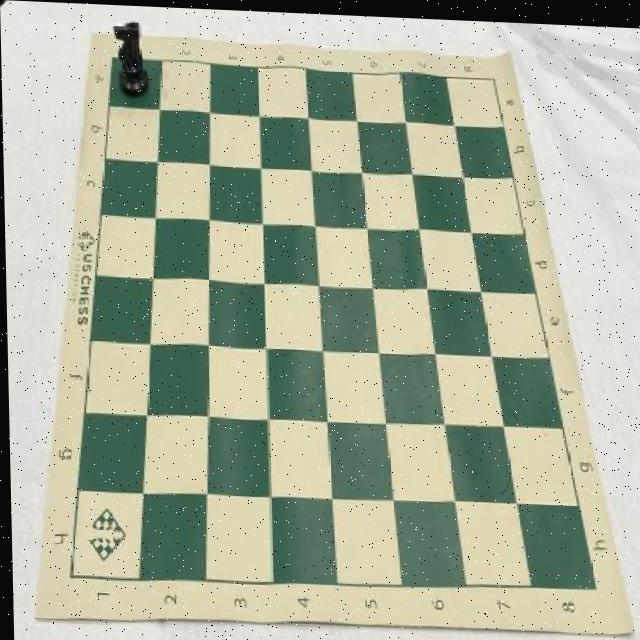black-king: (113, 19, 150, 96)
